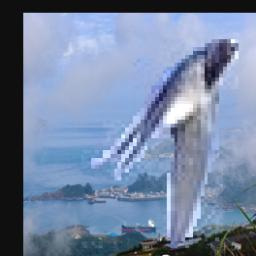Swallow: (81, 40, 239, 249)
